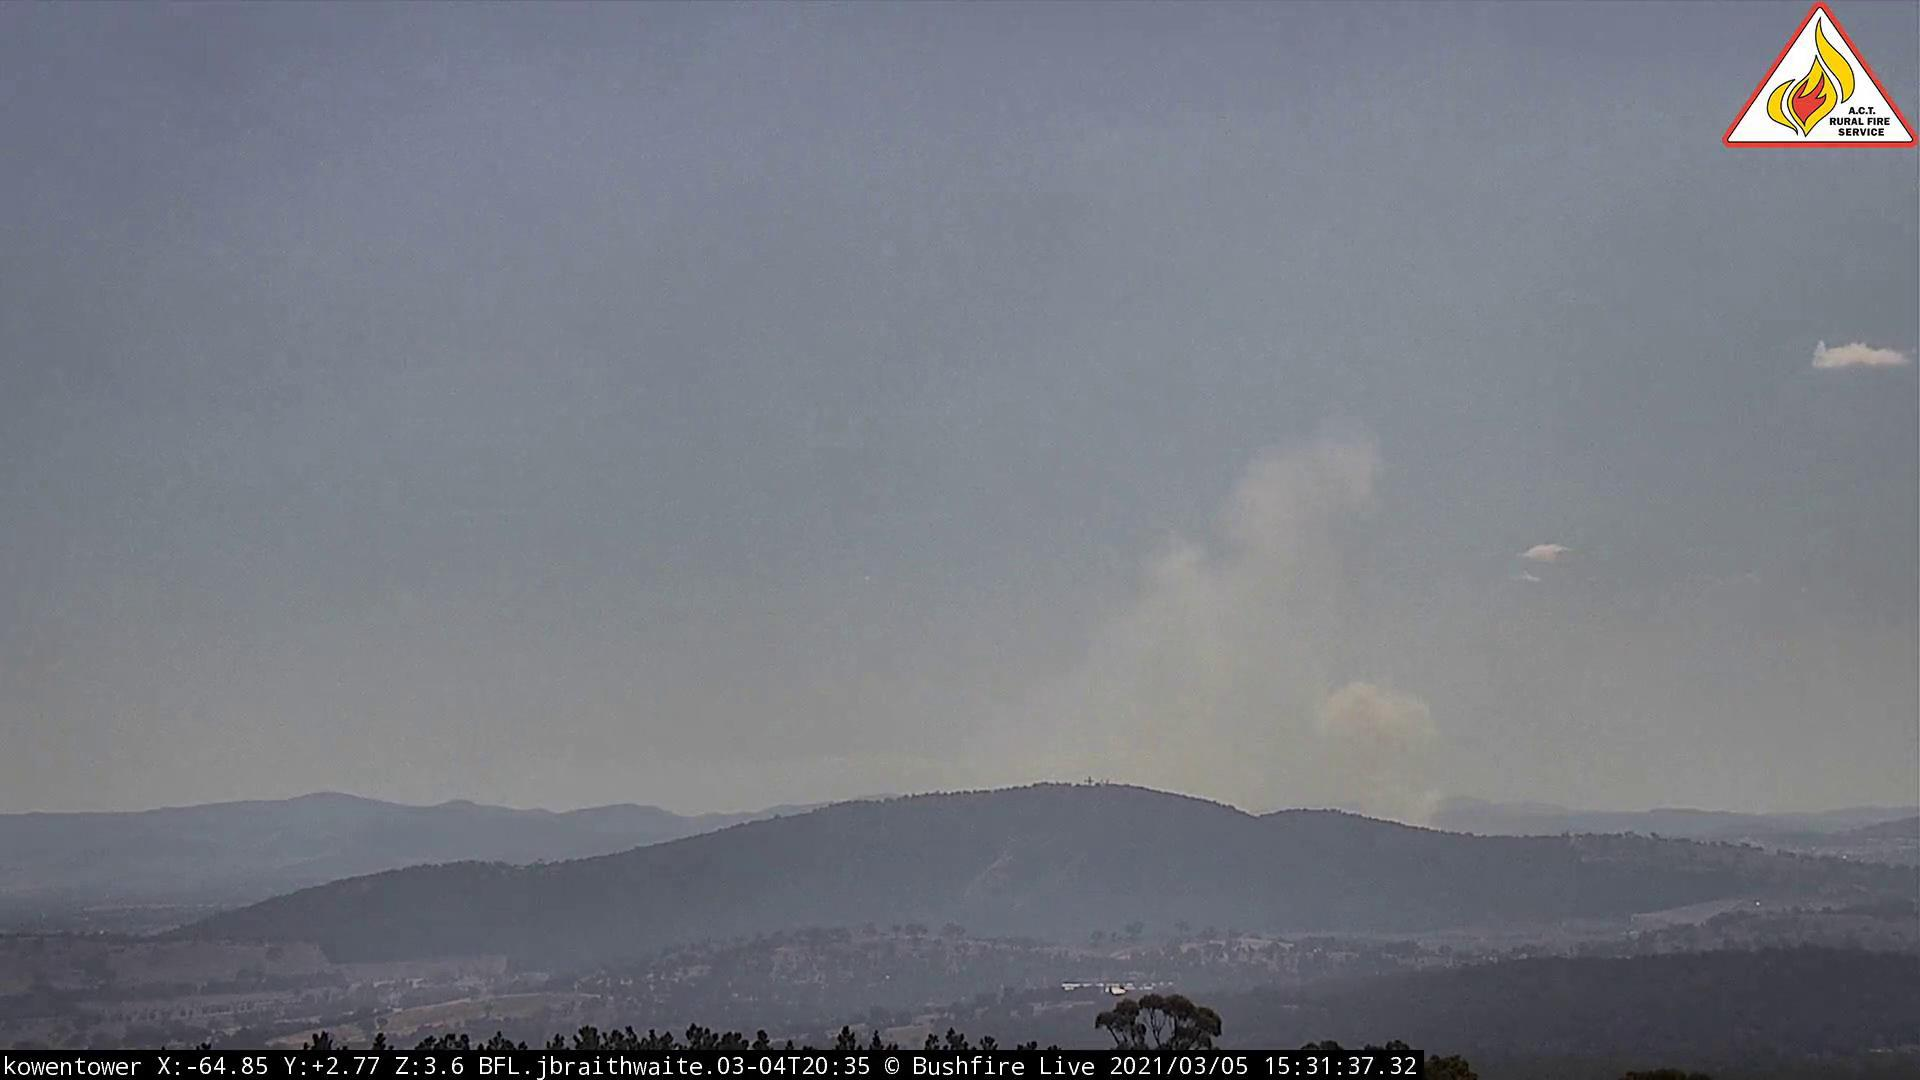Smoke: (949, 407, 1465, 844)
